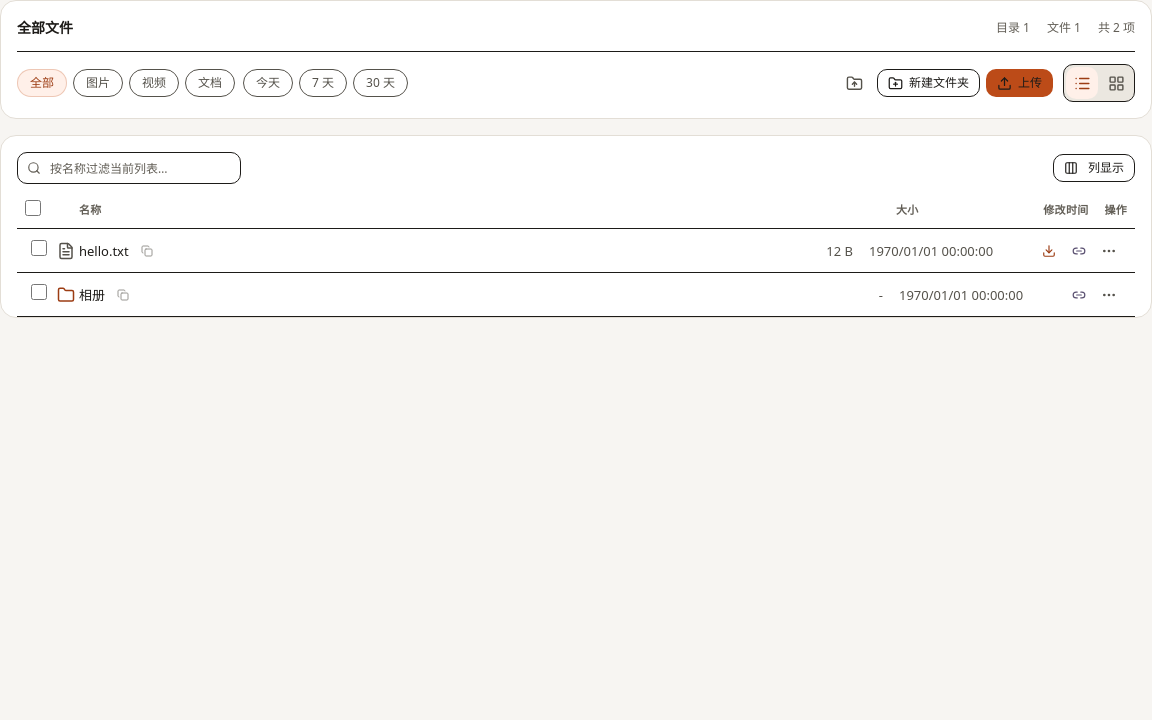
Test: selection hook: ctrl-click toggles and shift-click selects range
This screenshot has width=1152, height=720.
# Ctrl 点选第一行（锚点）
What coordinates should you click on to do the following:
click the button "hello.txt"
I would click on:
 (104, 250)
Its box is [79,240,129,260].
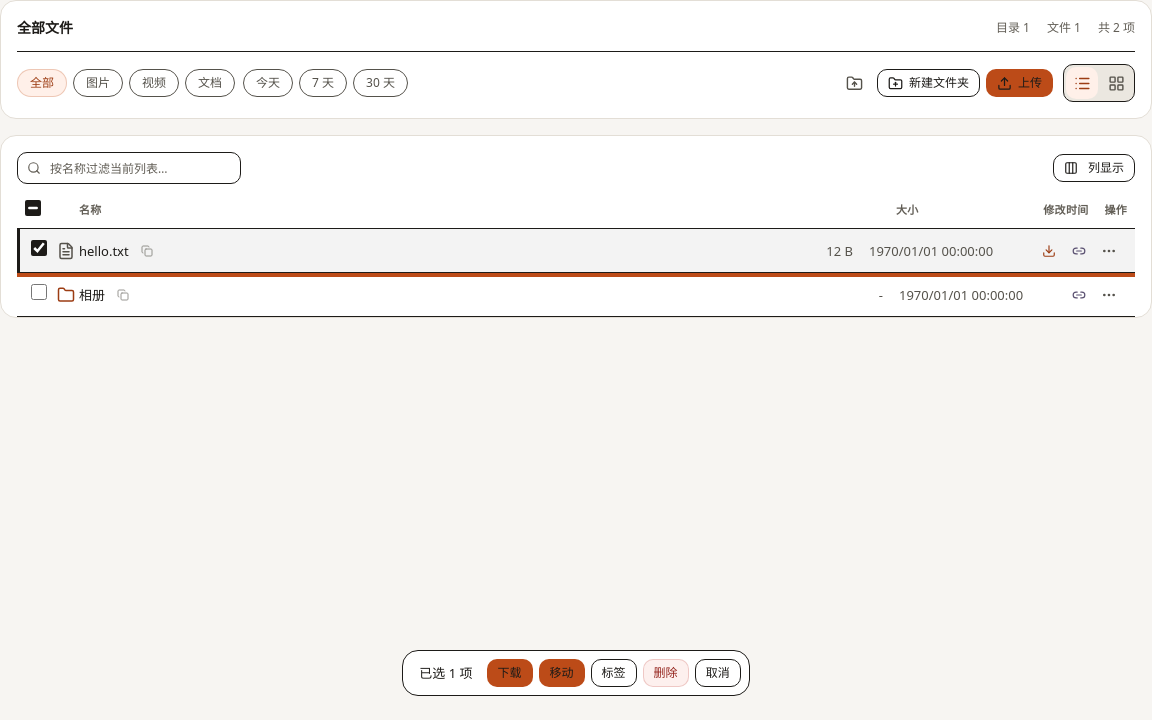
Check: the text "已选 1 项" is shown, box [419,664,472,682]
# Shift 点目录行 → 范围选两行
What coordinates should you click on to do the following:
click the button "相册"
I would click on:
 (92, 294)
Its box is [79,284,105,304].
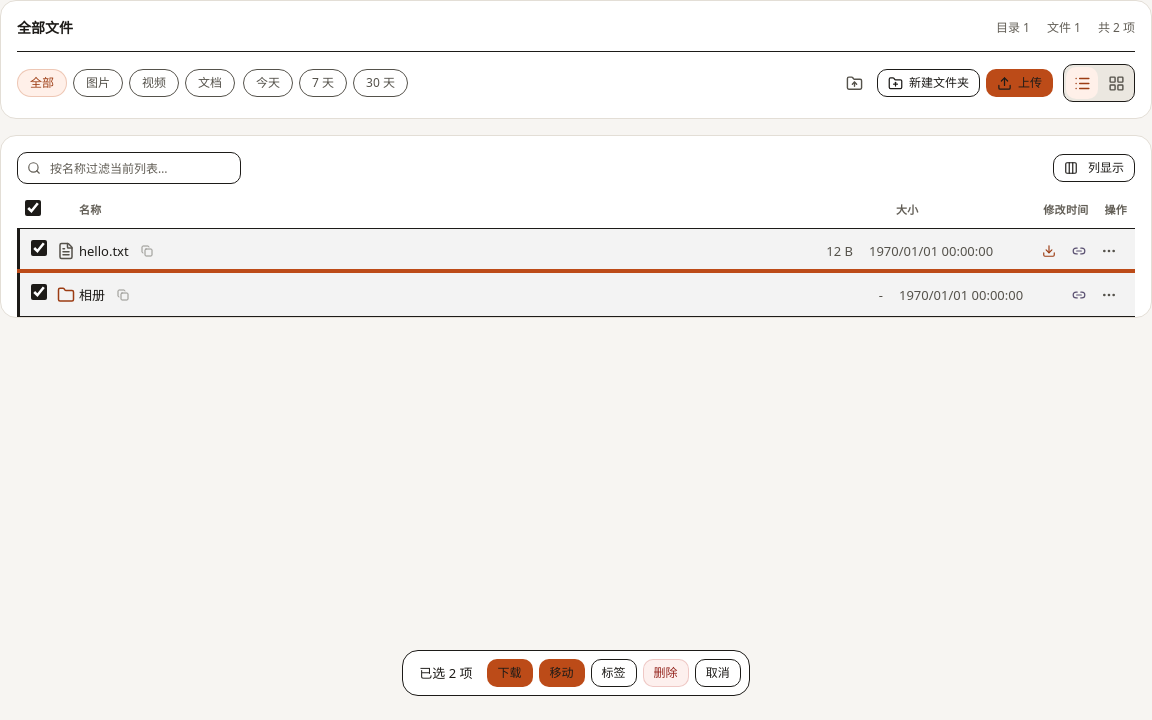
Check: the text "已选 2 项" is shown, box [419,664,472,682]
